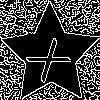X: (25, 30, 79, 84)
